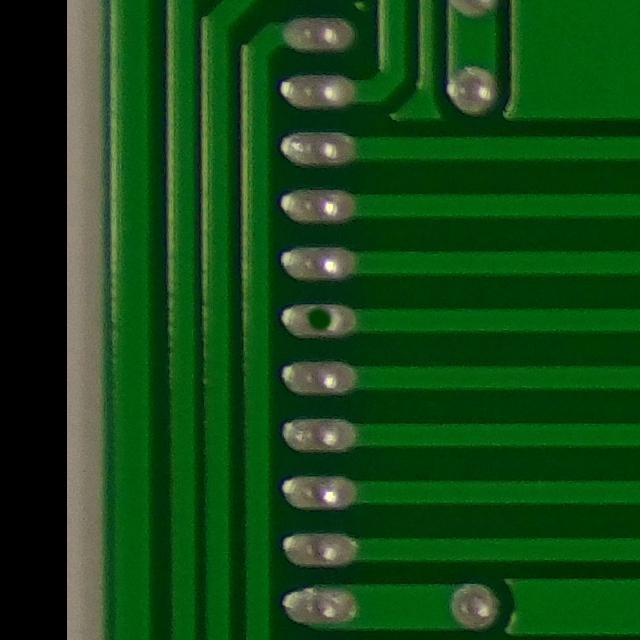missing_hole: (287, 290, 353, 351)
